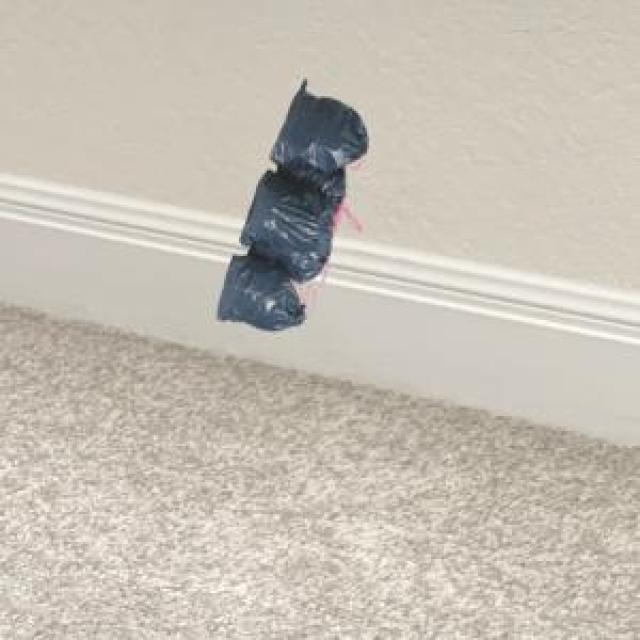Trashbag: (264, 73, 372, 169), (237, 174, 336, 270), (210, 250, 306, 338)
